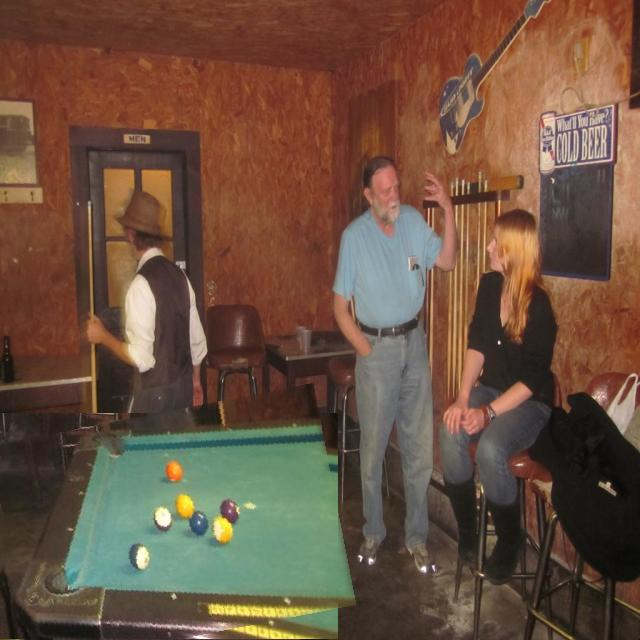Ball: (106, 524, 128, 553), (164, 504, 184, 532), (196, 536, 213, 564), (130, 516, 148, 542), (142, 496, 158, 524), (98, 512, 117, 535), (147, 462, 160, 484)
Billiard table: (0, 398, 347, 640)
